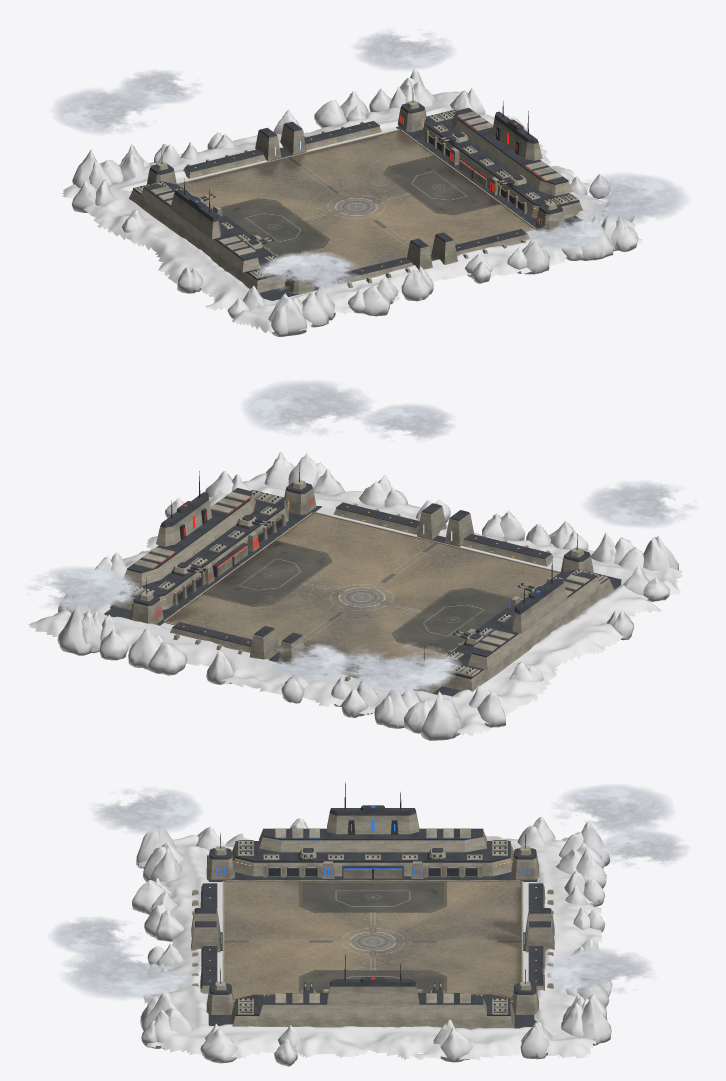
File: map.glb
The picture shows the model from 3 angles, top to bottom: view 1: azimuth 30°, elevation 25°; view 2: azimuth 150°, elevation 25°; view 3: azimuth 270°, elevation 25°; orthographic projection. The views are drawn at different scales.
Visible parts, largest first — view 1: field, struct_concrete, rocks, land, struct_armor, cloud2, cloud0, cloud3, cloud1, cloud5, cloud4; view 2: field, rocks, struct_concrete, land, struct_armor, cloud2, cloud0, cloud3, cloud1, cloud5, cloud4; view 3: field, struct_concrete, land, rocks, struct_armor, cloud2, cloud0, cloud3, cloud1, cloud4, cloud5.
Part boxes in pixels (x1=…): field: x1=179, y1=130, x2=533, y2=281; struct_concrete: x1=129, y1=100, x2=583, y2=294; rocks: x1=71, y1=68, x2=638, y2=336; land: x1=62, y1=91, x2=642, y2=333; struct_armor: x1=131, y1=88, x2=582, y2=300; cloud2: x1=568, y1=172, x2=691, y2=224; cloud0: x1=50, y1=88, x2=162, y2=134; cloud3: x1=256, y1=251, x2=360, y2=293; cloud1: x1=351, y1=29, x2=455, y2=71; cloud5: x1=524, y1=215, x2=606, y2=250; cloud4: x1=119, y1=69, x2=202, y2=104; field: x1=165, y1=513, x2=558, y2=665; rocks: x1=57, y1=451, x2=678, y2=740; struct_concrete: x1=110, y1=479, x2=614, y2=693; land: x1=28, y1=473, x2=682, y2=736; struct_armor: x1=104, y1=466, x2=621, y2=696; cloud2: x1=241, y1=380, x2=373, y2=435; cloud0: x1=335, y1=642, x2=461, y2=694; cloud3: x1=582, y1=480, x2=696, y2=528; cloud1: x1=26, y1=566, x2=141, y2=613; cloud5: x1=362, y1=403, x2=455, y2=441; cloud4: x1=261, y1=643, x2=350, y2=682; field: x1=224, y1=881, x2=521, y2=1000; struct_concrete: x1=191, y1=811, x2=554, y2=1029; land: x1=136, y1=833, x2=601, y2=1060; rocks: x1=132, y1=817, x2=612, y2=1066; struct_armor: x1=195, y1=783, x2=550, y2=1028; cloud2: x1=60, y1=943, x2=194, y2=1000; cloud0: x1=551, y1=784, x2=675, y2=834; cloud3: x1=91, y1=787, x2=202, y2=834; cloud1: x1=543, y1=947, x2=655, y2=995; cloud4: x1=595, y1=829, x2=690, y2=866; cloud5: x1=47, y1=916, x2=140, y2=953.
Size of the model in its own units: 194 by 30.06 by 227.
8 materials, 4 textured.
